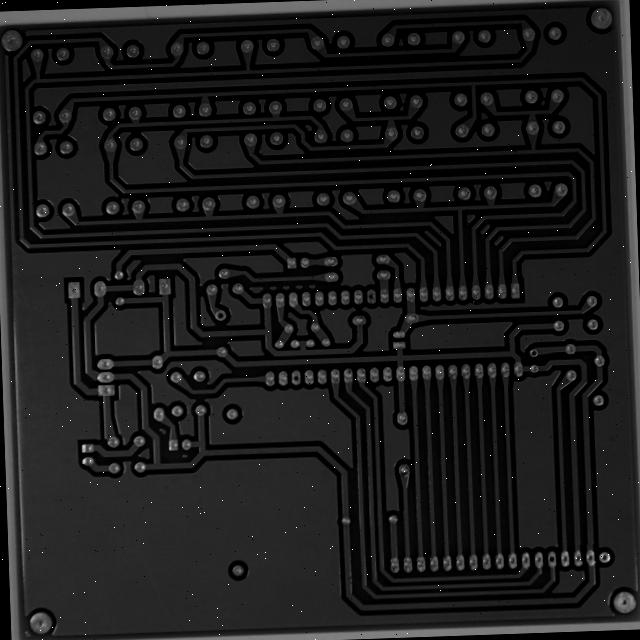missing_hole: (579, 543, 597, 562), (386, 263, 404, 282), (225, 283, 242, 301), (308, 351, 322, 369), (561, 326, 576, 339)
